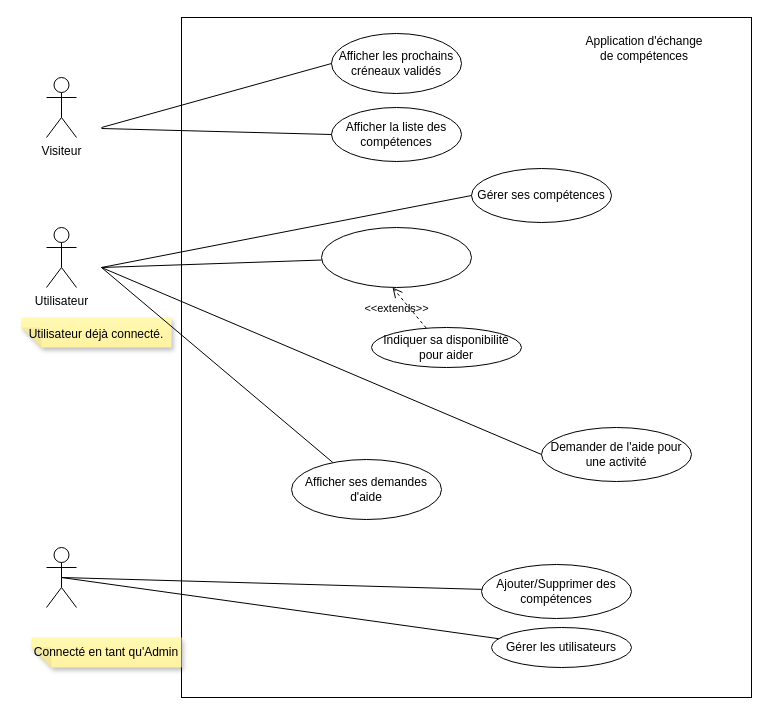
The diagram is 769 pixels wide and 715 high, and some of its shapes have lost their labels. Here are the shapes that lost their labels. From the top down, the centre of each, then its label:
At point 396,257: "Afficher les demandes d'aide des autres utilisateurs".
At point 61,577: "Admin".
